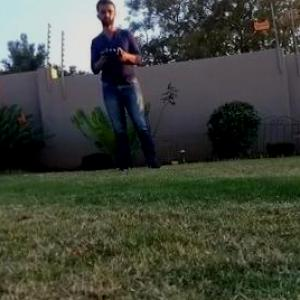follow: (87, 0, 168, 177)
